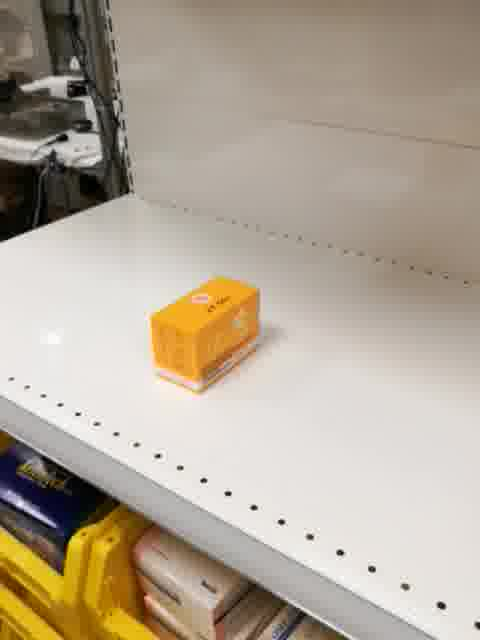jasminetea: (148, 271, 261, 396)
